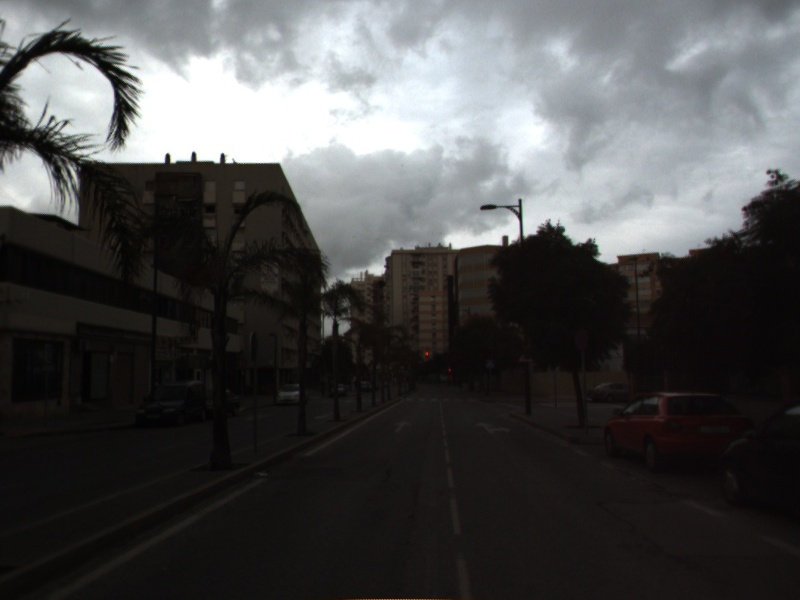STRAIGHT: (392, 419, 415, 434)
STRAIGHT_RIGHT: (473, 419, 513, 436)
